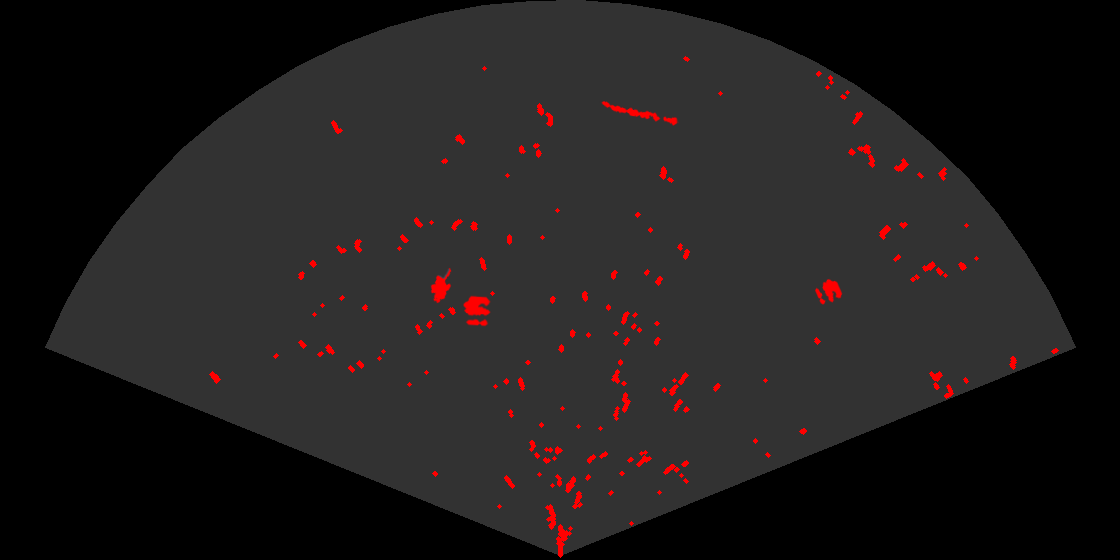AUV: (429, 266, 453, 305)
ball: (462, 294, 492, 328), (813, 277, 844, 306)
chain: (599, 100, 679, 127)
